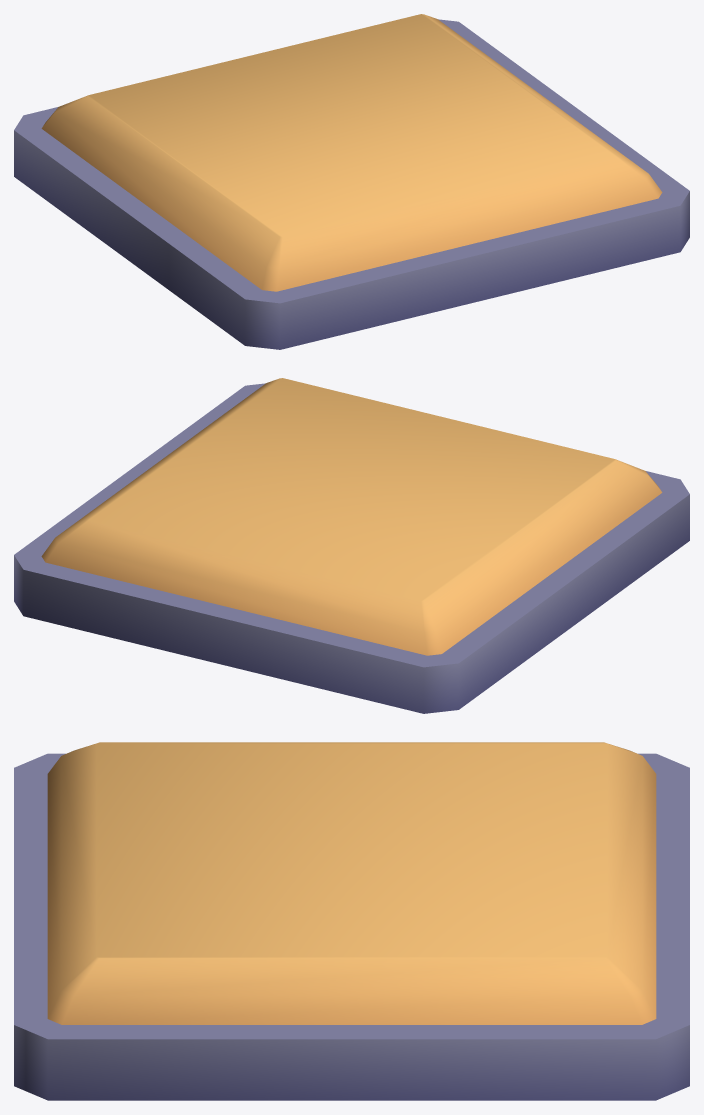
Rendered from kenney-factory-button-floor-square.glb.
The picture shows the model from 3 angles, top to bottom: view 1: azimuth 30°, elevation 25°; view 2: azimuth 150°, elevation 25°; view 3: azimuth 270°, elevation 25°; orthographic projection. The views are drawn at different scales.
Parts seen in each view (by area): view 1: button, button-floor-square; view 2: button, button-floor-square; view 3: button, button-floor-square.
Part boxes in pixels (box(x1,y1,x2,y2)): button: box(41, 14, 662, 291); button-floor-square: box(14, 19, 689, 349); button: box(41, 378, 662, 655); button-floor-square: box(14, 383, 689, 713); button: box(47, 742, 656, 1024); button-floor-square: box(14, 753, 689, 1100).
Size of the model in its own units: 1.5 by 0.2625 by 1.5.
Materials: 1 (1 with a texture image).
